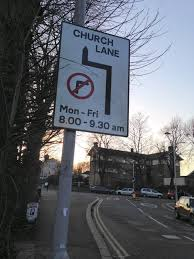No_right_turn: (67, 73, 94, 99)
